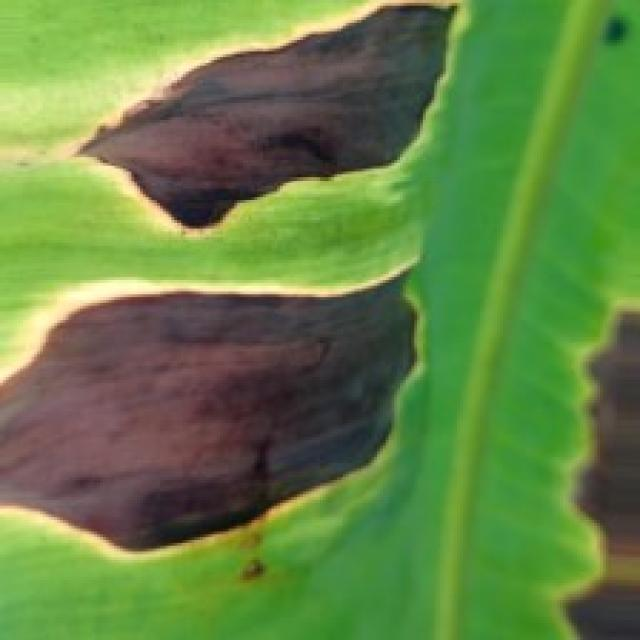Bacterial_spot: (2, 256, 428, 544), (30, 3, 498, 236), (552, 256, 640, 640), (593, 0, 640, 73)
